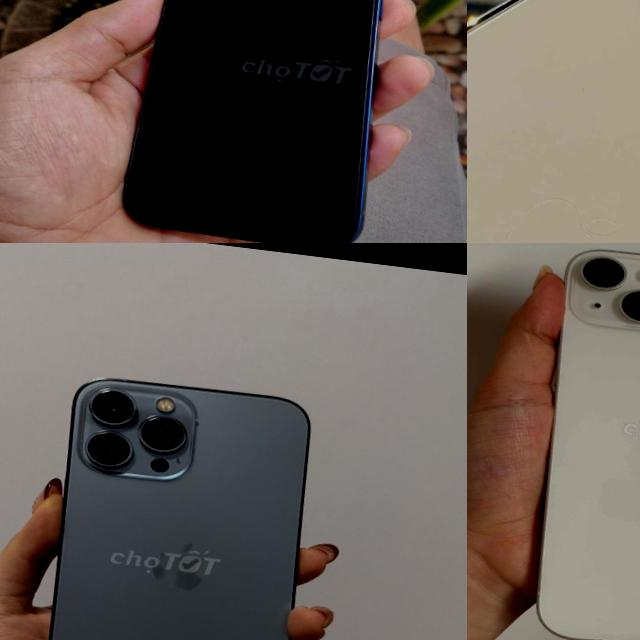gen_12_13: (112, 0, 403, 243), (50, 379, 309, 640), (467, 0, 640, 243)
gen_14: (506, 243, 640, 640)
